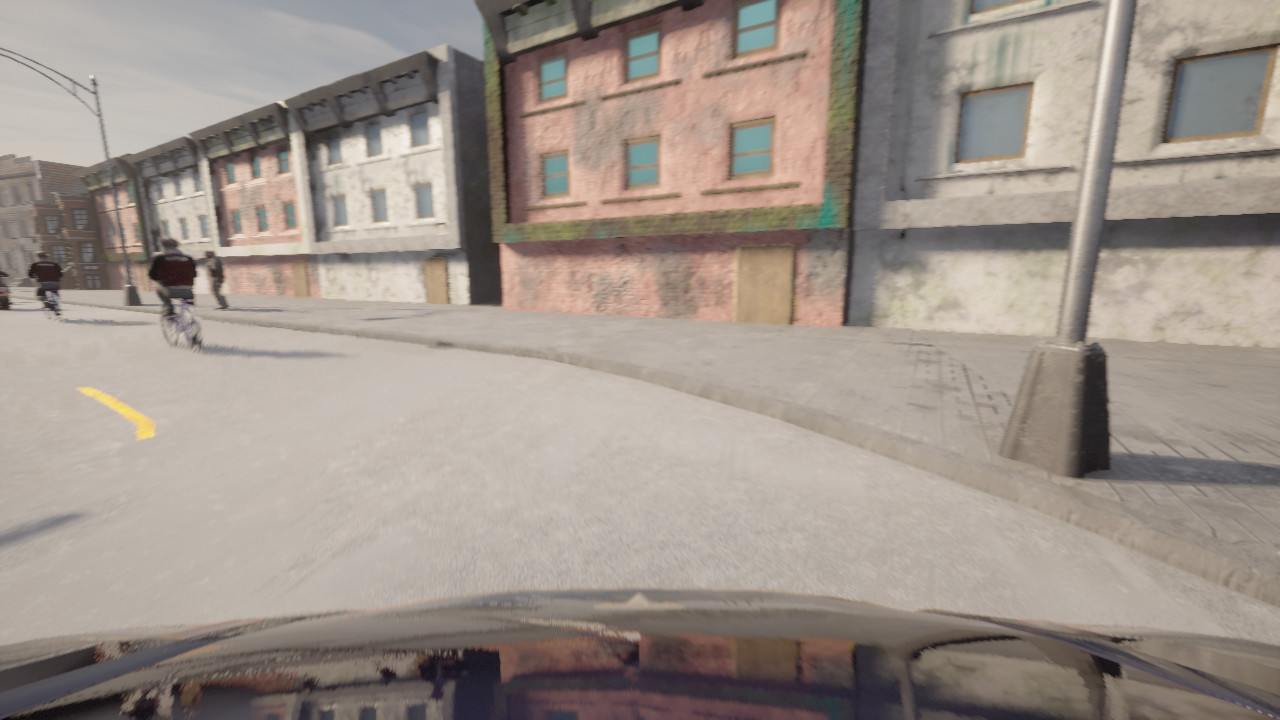cyclist: (0, 588, 1279, 719), (161, 299, 201, 351), (43, 290, 61, 321), (0, 276, 14, 309)
pedestrian: (205, 249, 229, 309)
